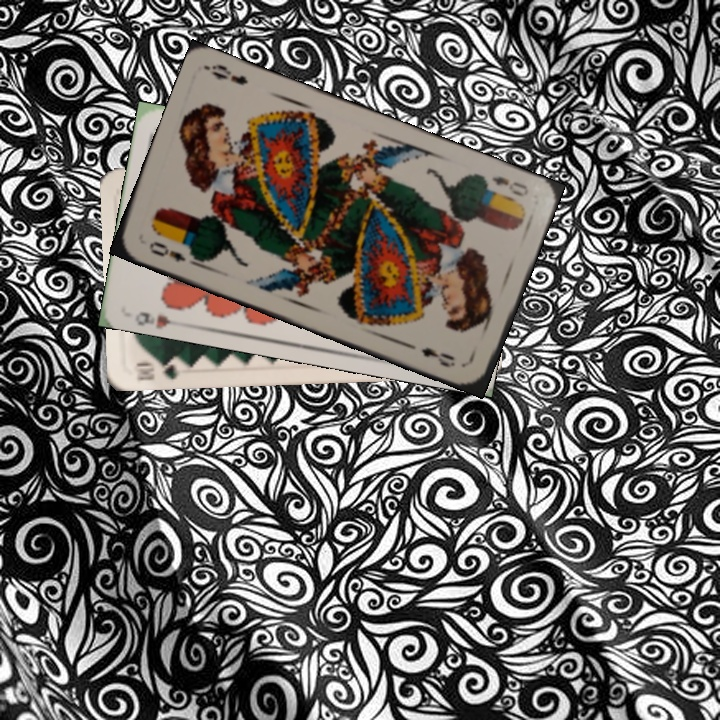EO: (488, 172, 532, 200), (145, 237, 188, 264)
G10: (129, 356, 188, 384)
H9: (134, 307, 184, 329)
